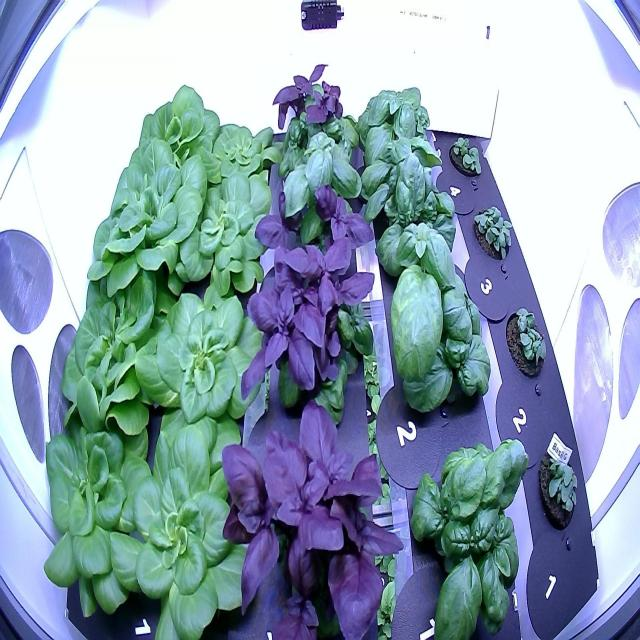germination: (533, 440, 582, 538), (504, 296, 551, 391), (445, 126, 487, 185)
young: (28, 397, 166, 631), (128, 408, 265, 639), (57, 249, 178, 450), (133, 278, 270, 454), (84, 128, 215, 304), (163, 163, 281, 315), (130, 78, 228, 213), (190, 105, 289, 203)
